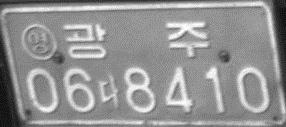0: (236, 65, 270, 115), (24, 66, 59, 114)
1: (200, 65, 229, 113)
4: (163, 65, 193, 112)
6: (62, 66, 96, 114)
8: (123, 65, 157, 114)
광주_D: (62, 21, 210, 60)
다: (98, 73, 121, 108)
영: (20, 23, 57, 61)
